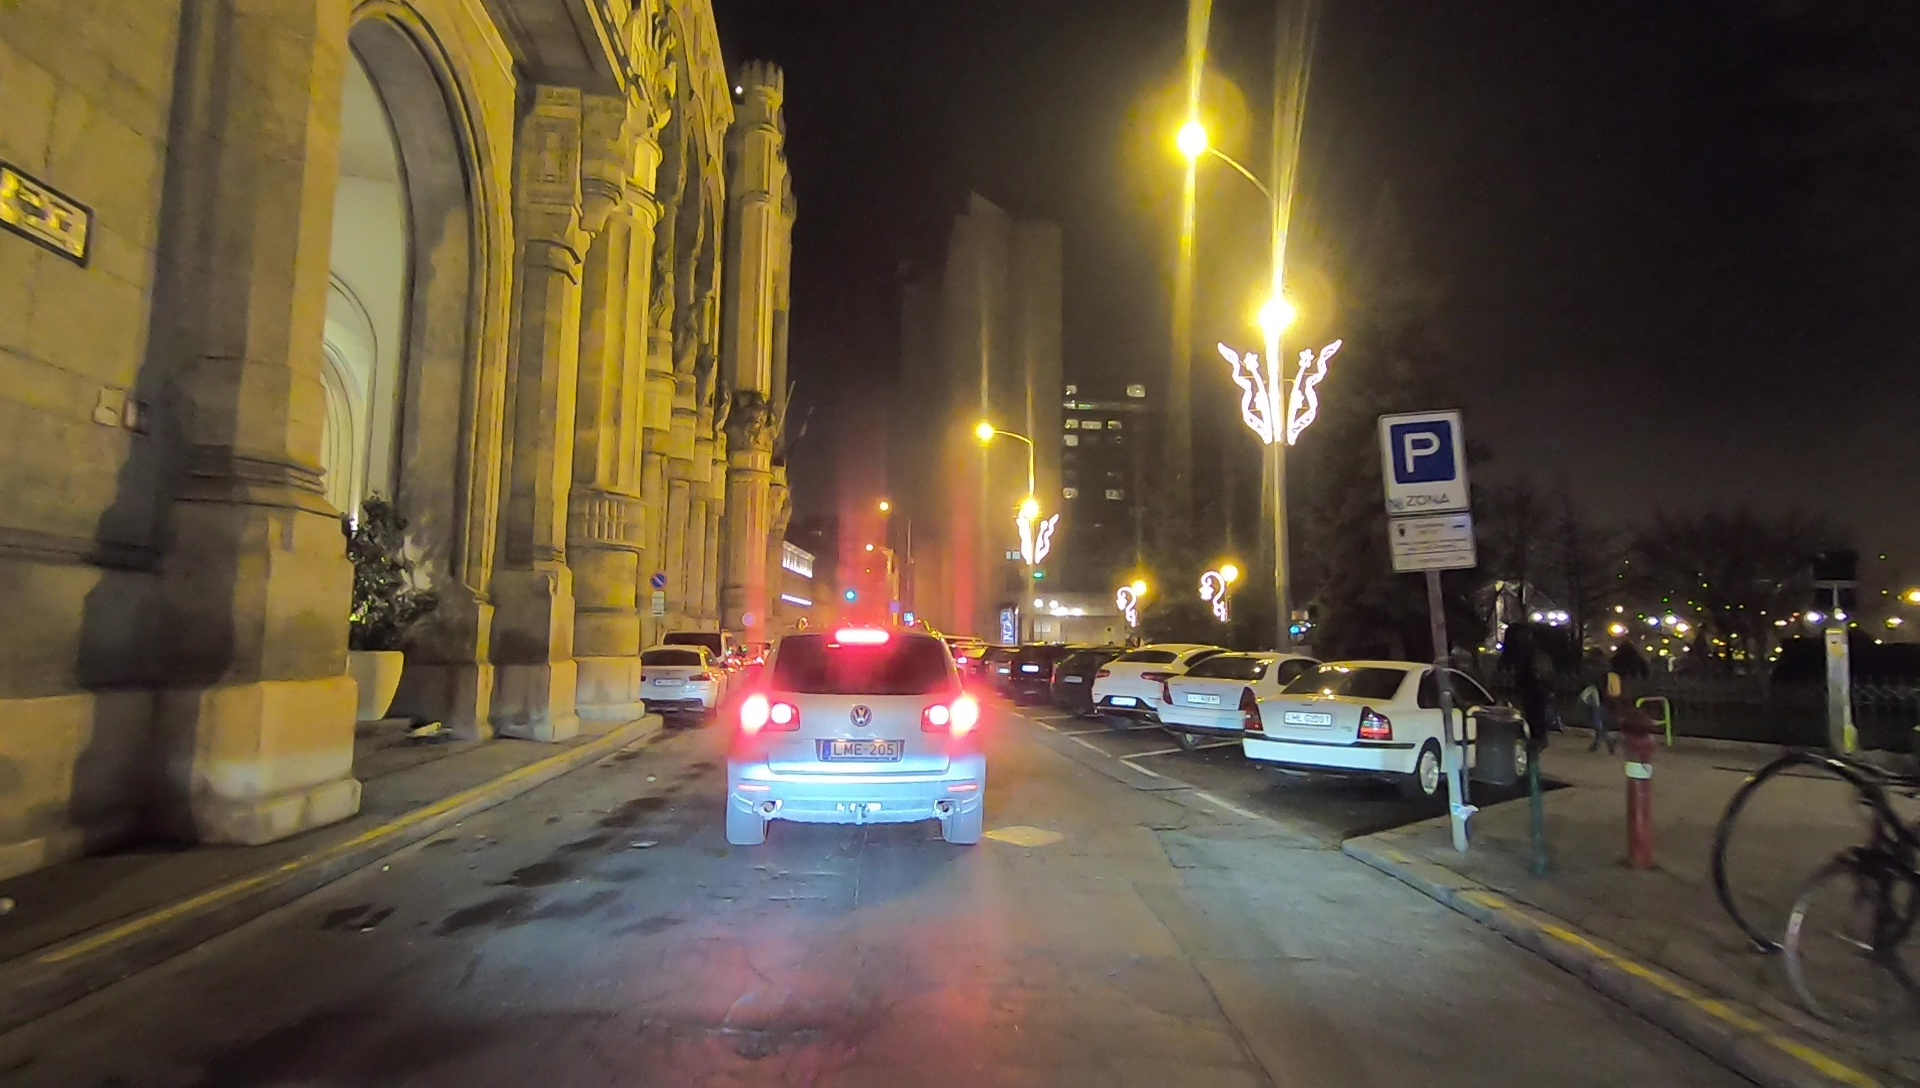person: (1578, 646, 1619, 754)
